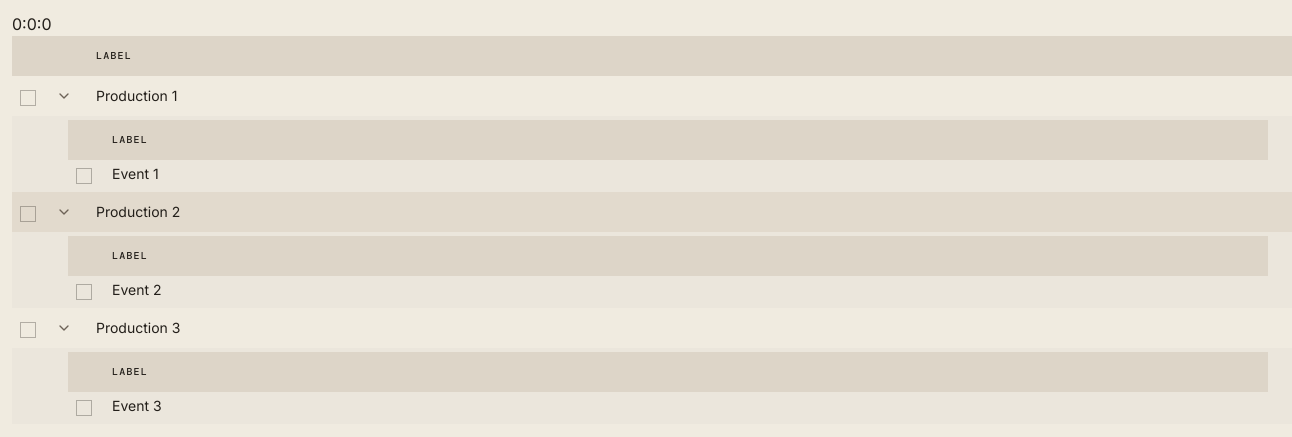
Scenario: useParentChildSelection › toggles the ctrl-clicked parent row without changing other selected parents
Click the checkbox next to "Production 1" at {"x": 28, "y": 98}, box [20,90,36,106]
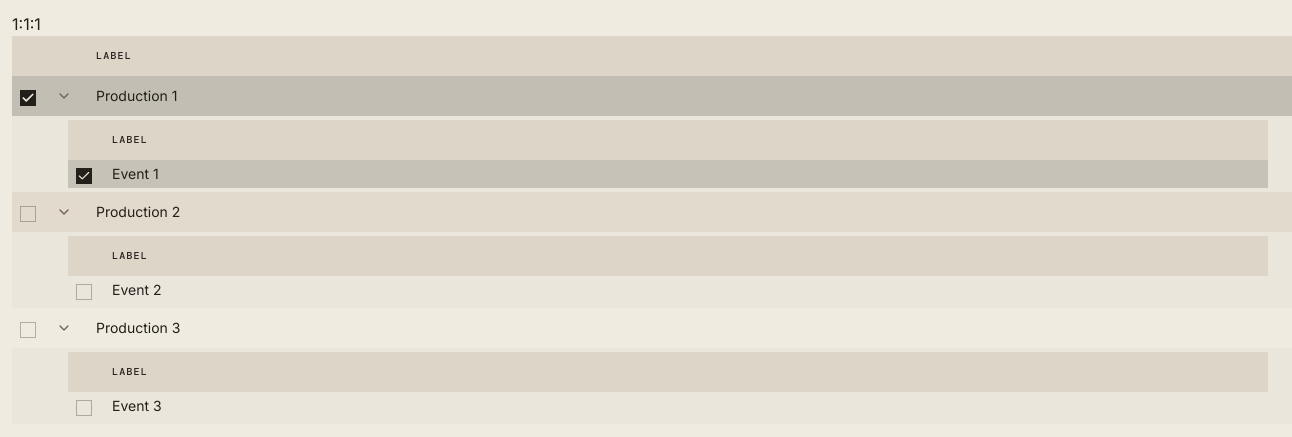
Click the checkbox next to "Production 2" at {"x": 28, "y": 214}, box [20,206,36,222]
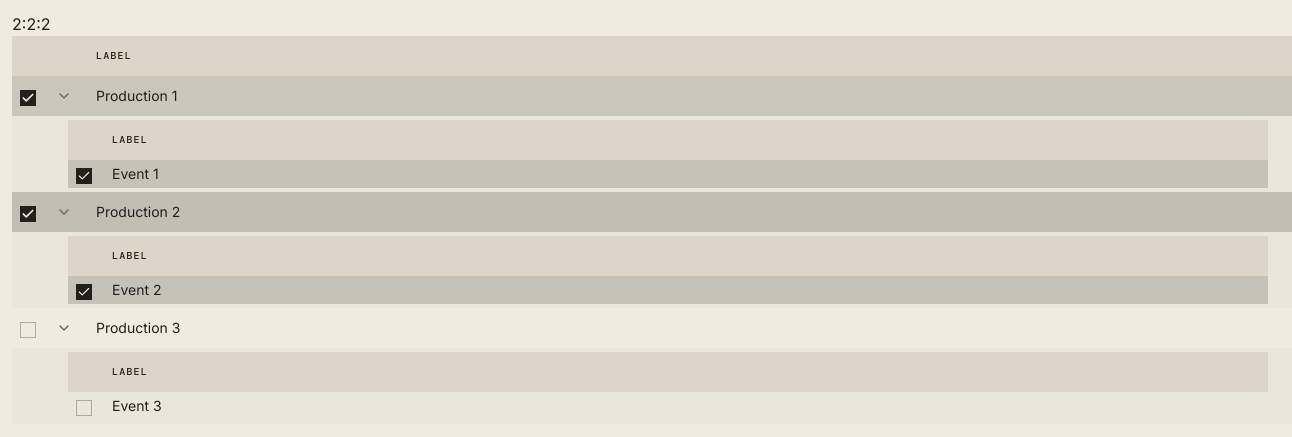
Click the checkbox next to "Production 3" at {"x": 28, "y": 330}, box [20,322,36,338]
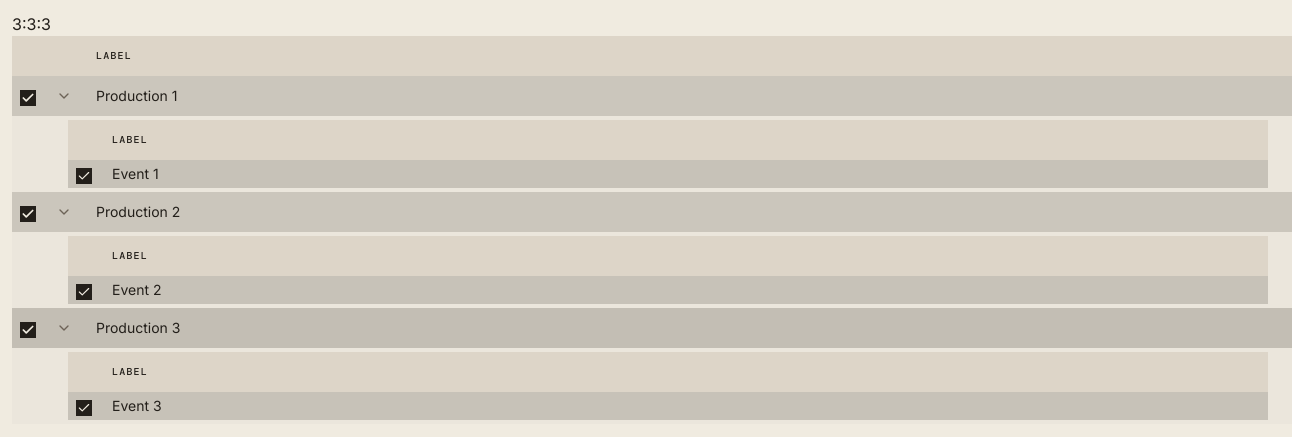
expect the text with test id "counts" reads "3:3:3": met, box [12,14,51,34]
Click the checkbox next to "Production 2" at {"x": 28, "y": 214}, box [20,206,36,222]
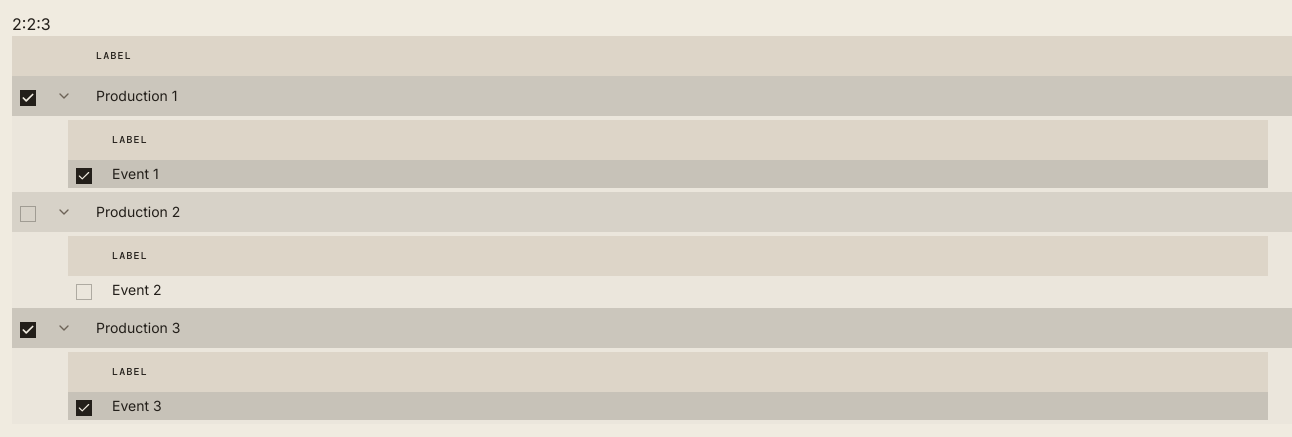
expect the text with test id "counts" reads "2:2:3": met, box [12,14,51,34]
